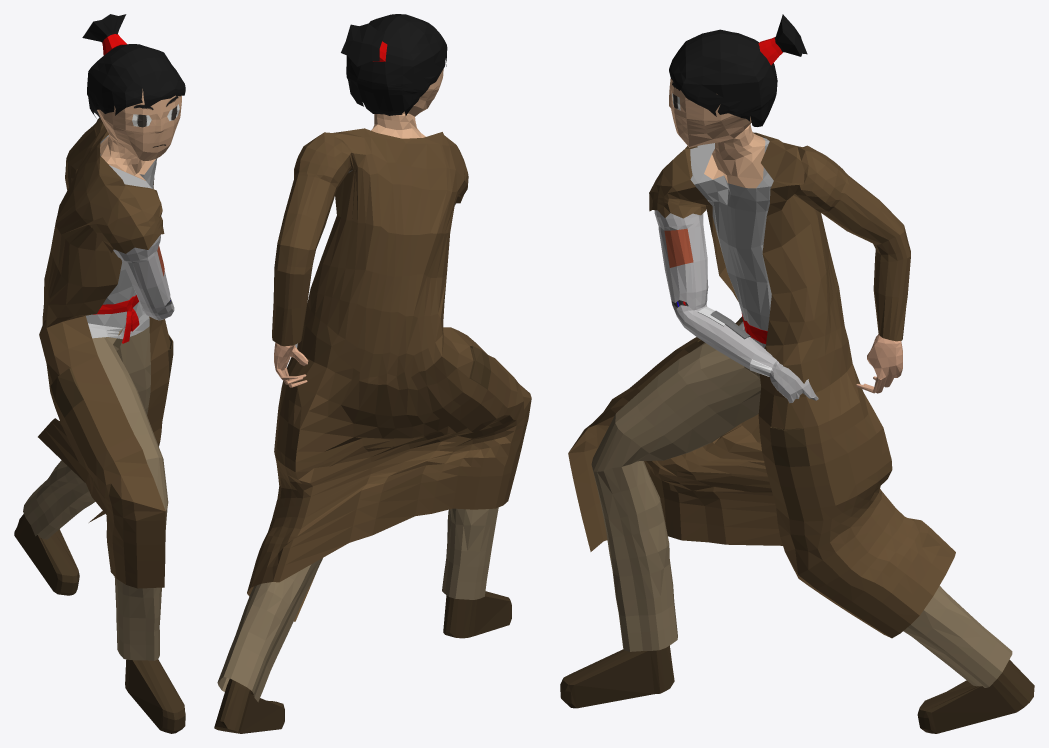
File: OneAnimationTest_000022.obj
3 renders of one model, left to right at view 1: azimuth 30°, elevation 25°; view 2: azimuth 150°, elevation 25°; view 3: azimuth 270°, elevation 25°, orthographic. The views are drawn at different scales.
Visible parts, largest first — view 1: Jacket_Cube, Body_Cube.003, Hair_Cube.004; view 2: Jacket_Cube, Body_Cube.003, Hair_Cube.004; view 3: Jacket_Cube, Body_Cube.003, Hair_Cube.004.
Boxes of the visible parts, box(x1,y1,x2,y2) form: Jacket_Cube: box(38, 118, 173, 588); Body_Cube.003: box(14, 89, 185, 733); Hair_Cube.004: box(82, 14, 185, 118); Jacket_Cube: box(247, 128, 531, 621); Body_Cube.003: box(214, 69, 511, 733); Hair_Cube.004: box(341, 14, 447, 115); Jacket_Cube: box(568, 132, 955, 638); Body_Cube.003: box(560, 78, 1034, 733); Hair_Cube.004: box(669, 14, 807, 126).
Bounding box in the file's own units: 0.9007 × 3.66 × 2.24.
